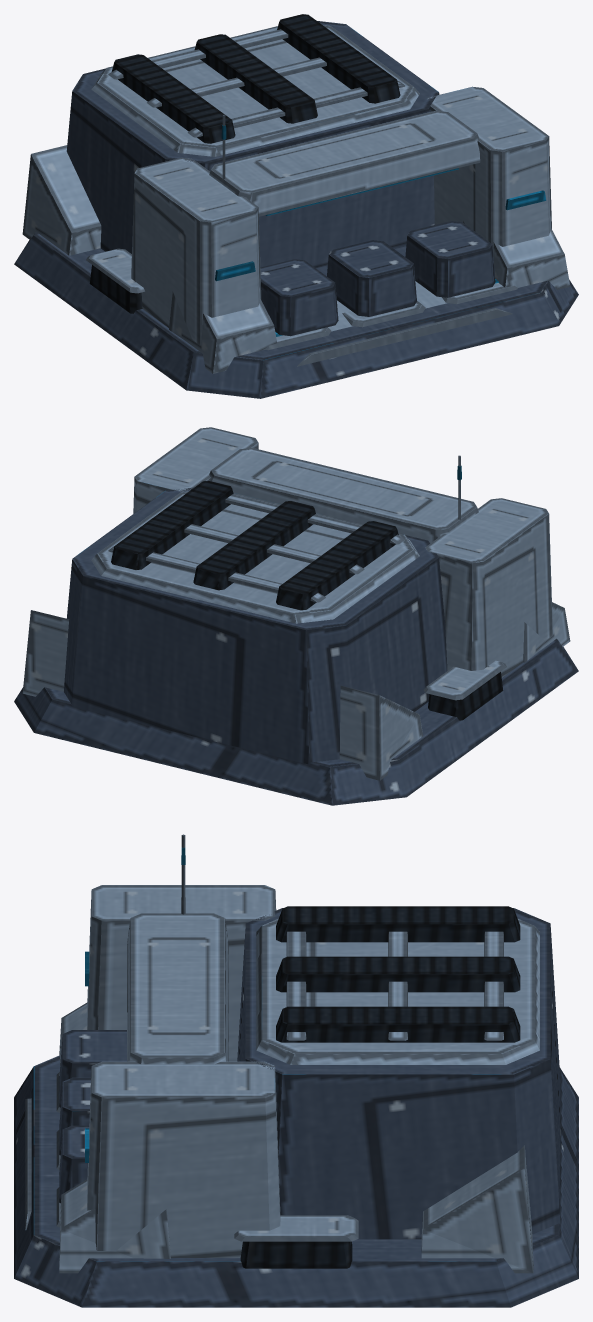
The model's file is building-logistics.fbx.
3 views of the same model, one above another, from view 1: azimuth 30°, elevation 25°; view 2: azimuth 150°, elevation 25°; view 3: azimuth 270°, elevation 25° (orthographic). The views are drawn at different scales.
Parts seen in each view (by area): view 1: building-logistics; view 2: building-logistics; view 3: building-logistics.
Boxes of the visible parts, x1,y1,x2,y2 form: building-logistics: (14,14,578,398); building-logistics: (14,427,578,805); building-logistics: (14,834,578,1307).
Bounding box in the file's own units: 2184 × 1200 × 2184.
Materials: 1 (1 with a texture image).
